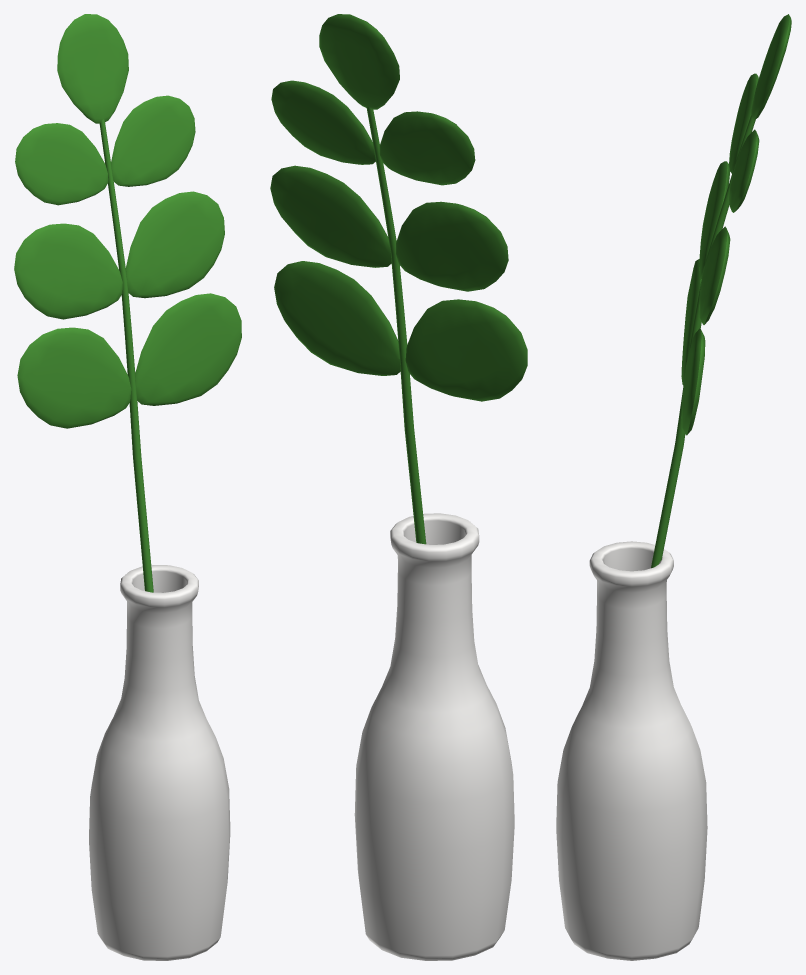
Rendered from Plant_Vase_with_plant_3.glb.
The picture shows the model from 3 angles, left to right: view 1: azimuth 30°, elevation 25°; view 2: azimuth 150°, elevation 25°; view 3: azimuth 270°, elevation 25°; orthographic projection. The views are drawn at different scales.
Parts seen in each view (by area): view 1: Vase_with_plant_3; view 2: Vase_with_plant_3; view 3: Vase_with_plant_3.
Boxes of the visible parts, x1,y1,x2,y2 form: Vase_with_plant_3: [14, 14, 241, 960]; Vase_with_plant_3: [270, 14, 527, 960]; Vase_with_plant_3: [556, 14, 791, 960].
Bounding box in the file's own units: 0.3231 × 1.2 × 0.2781.
2 materials, 2 textured.
